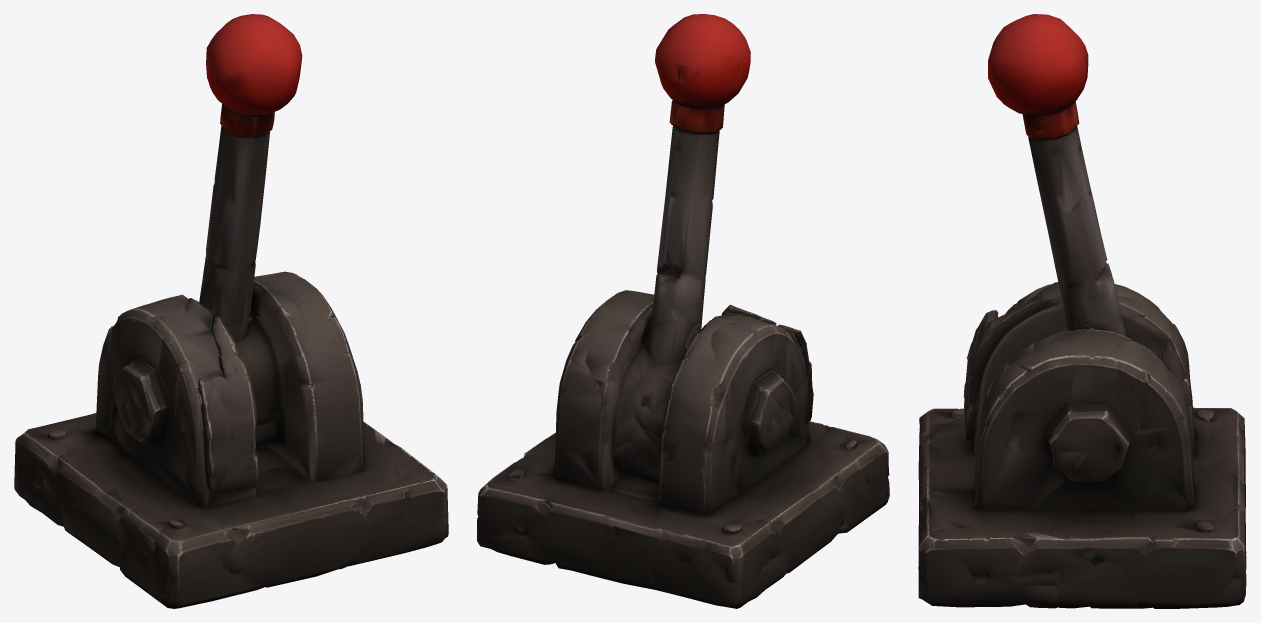
The model's file is palanca_industrial.glb.
3 views of the same model, side by side, from view 1: azimuth 30°, elevation 25°; view 2: azimuth 150°, elevation 25°; view 3: azimuth 270°, elevation 25° (orthographic). The views are drawn at different scales.
Parts seen in each view (by area): view 1: palanca_industrial; view 2: palanca_industrial; view 3: palanca_industrial.
Boxes of the visible parts, x1,y1,x2,y2 form: palanca_industrial: [14, 14, 448, 608]; palanca_industrial: [477, 14, 889, 608]; palanca_industrial: [918, 14, 1246, 608].
Size of what is drawn, in the model's own units: 0.6804 by 1.2 by 0.6813.
1 material, 1 textured.
